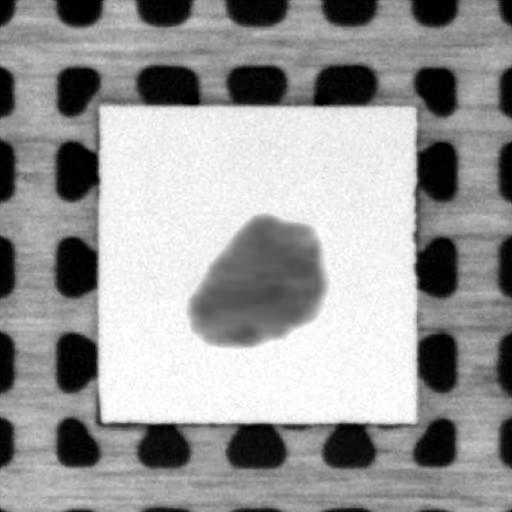DIE_INK: (179, 206, 326, 352)
